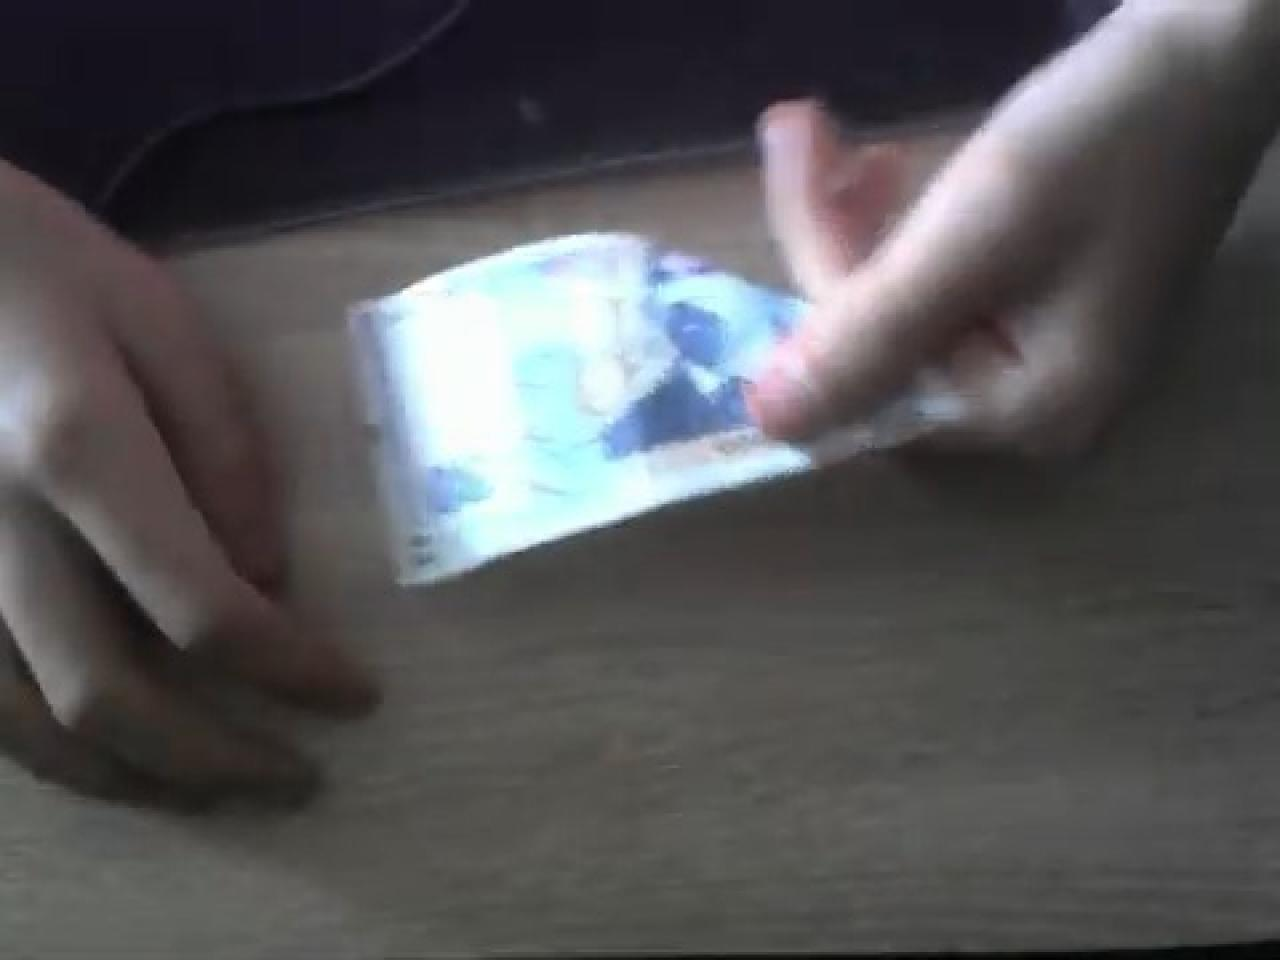20leva: (342, 224, 949, 592)
